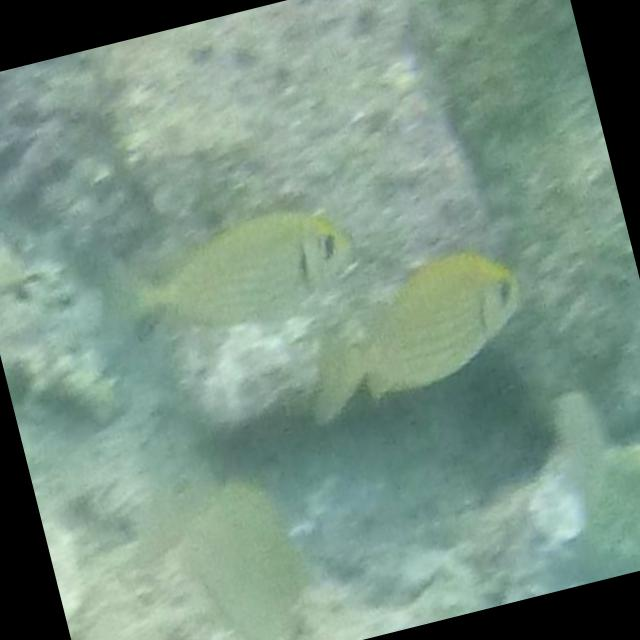Sokar Baligi: (283, 228, 554, 437), (74, 182, 374, 370)
